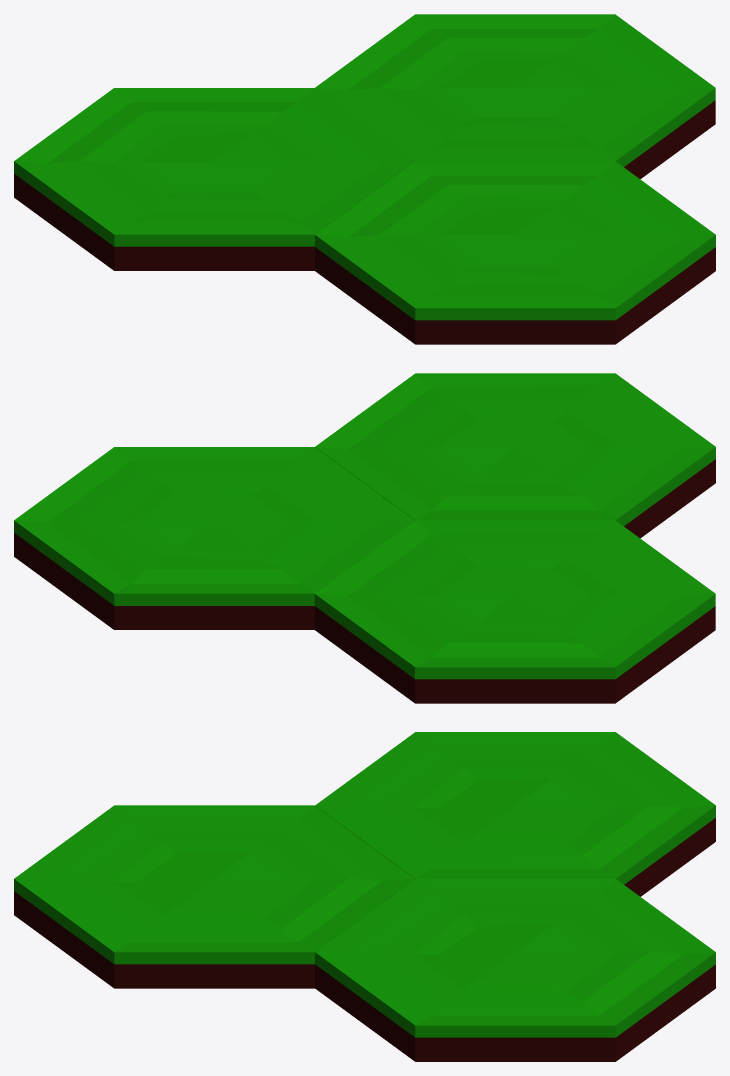
File: Hex_3ks.fbx
The picture shows the model from 3 angles, top to bottom: view 1: azimuth 30°, elevation 25°; view 2: azimuth 150°, elevation 25°; view 3: azimuth 270°, elevation 25°; orthographic projection.
Parts seen in each view (by area): view 1: Cylinder.004, Cylinder.001, Cylinder.002, Cylinder.005, Cylinder, Cylinder.003; view 2: Cylinder.001, Cylinder.002, Cylinder.004, Cylinder, Cylinder.003, Cylinder.005; view 3: Cylinder.002, Cylinder.004, Cylinder.001, Cylinder.003, Cylinder.005, Cylinder.
Boxes of the visible parts, <box> form: Cylinder.004: <box>315,161,715,320</box>; Cylinder.001: <box>14,88,414,246</box>; Cylinder.002: <box>315,14,715,166</box>; Cylinder.005: <box>315,247,715,344</box>; Cylinder: <box>14,173,314,270</box>; Cylinder.003: <box>624,100,715,179</box>; Cylinder.001: <box>314,520,715,679</box>; Cylinder.002: <box>14,447,414,605</box>; Cylinder.004: <box>315,373,715,526</box>; Cylinder: <box>314,606,715,703</box>; Cylinder.003: <box>14,533,314,629</box>; Cylinder.005: <box>624,459,715,538</box>; Cylinder.002: <box>315,878,715,1037</box>; Cylinder.004: <box>14,805,414,964</box>; Cylinder.001: <box>315,732,715,884</box>; Cylinder.003: <box>315,964,715,1061</box>; Cylinder.005: <box>14,891,314,988</box>; Cylinder: <box>624,818,715,896</box>.
Size of the model in its own units: 5196 by 305 by 5253.
